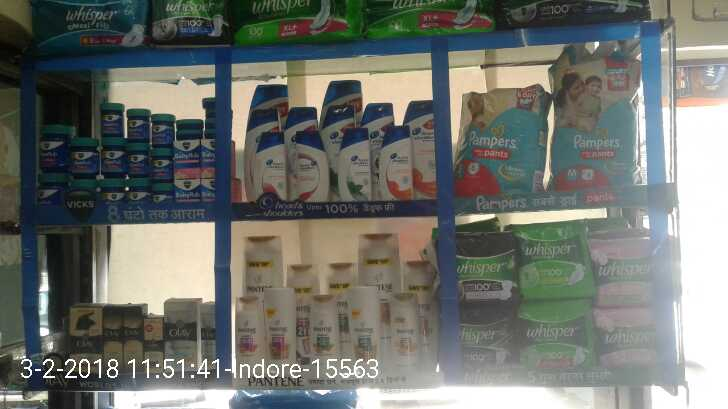beauty: (387, 299, 430, 379), (260, 291, 298, 373), (310, 293, 345, 382), (348, 288, 383, 377), (163, 302, 203, 375), (252, 133, 287, 204), (293, 133, 328, 204), (341, 131, 376, 202), (379, 135, 414, 206), (70, 304, 103, 373), (233, 296, 257, 380), (100, 306, 125, 376), (118, 304, 143, 374), (198, 304, 222, 375), (141, 317, 164, 370)
pharmacy: (29, 101, 218, 204), (551, 49, 645, 190), (458, 92, 545, 196), (595, 238, 684, 307), (513, 301, 597, 366), (516, 225, 590, 297), (229, 1, 365, 38), (36, 4, 145, 45), (602, 309, 682, 364), (453, 230, 515, 298), (456, 301, 517, 367), (146, 1, 225, 38)
